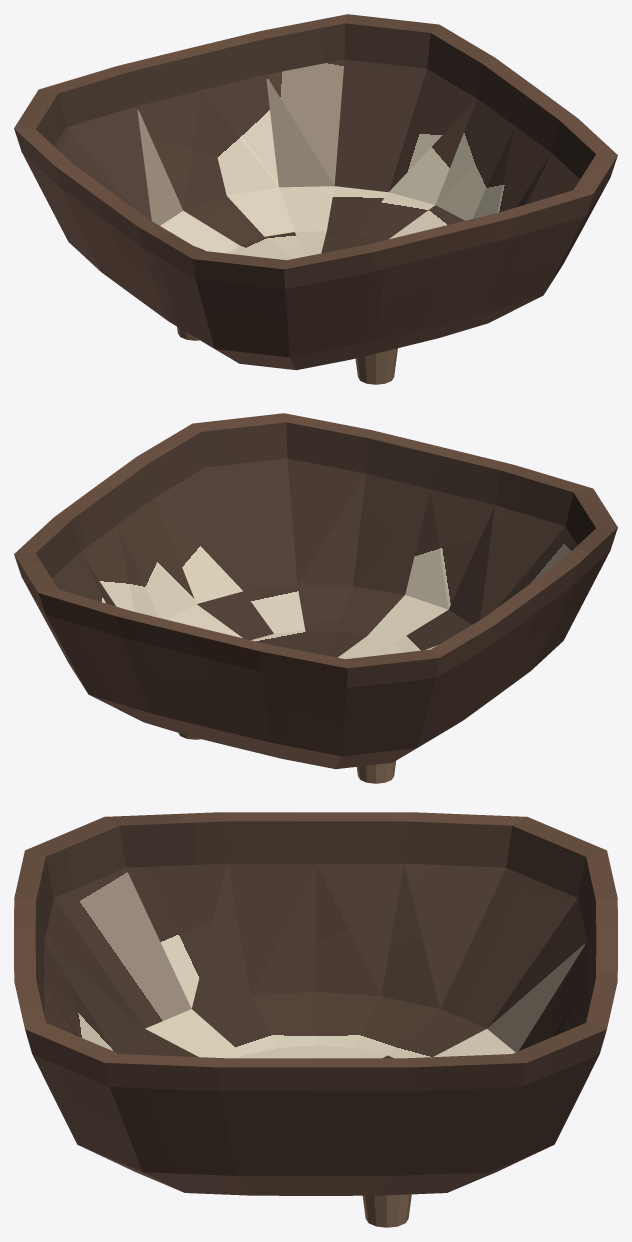
Rendered from antique-nezumi.glb.
3 views of the same model, one above another, from view 1: azimuth 30°, elevation 25°; view 2: azimuth 150°, elevation 25°; view 3: azimuth 270°, elevation 25° (orthographic). The views are drawn at different scales.
Visible parts, largest first — view 1: antique-nezumi/ceramic-inner-wall-6, antique-nezumi/ceramic-outer-mid-2, antique-nezumi/ceramic-inner-upper-5, antique-nezumi/ceramic-rim-4, antique-nezumi/ceramic-inner-lower-7, antique-nezumi/ceramic-outer-upper-3, antique-nezumi/ceramic-outer-lower-1, antique-nezumi/ceramic-inner-floor-8, antique-nezumi/foot-0; view 2: antique-nezumi/ceramic-inner-wall-6, antique-nezumi/ceramic-outer-mid-2, antique-nezumi/ceramic-inner-upper-5, antique-nezumi/ceramic-rim-4, antique-nezumi/ceramic-inner-lower-7, antique-nezumi/ceramic-outer-upper-3, antique-nezumi/ceramic-outer-lower-1, antique-nezumi/ceramic-inner-floor-8, antique-nezumi/foot-2; view 3: antique-nezumi/ceramic-inner-wall-6, antique-nezumi/ceramic-outer-mid-2, antique-nezumi/ceramic-inner-upper-5, antique-nezumi/ceramic-rim-4, antique-nezumi/ceramic-inner-lower-7, antique-nezumi/ceramic-outer-upper-3, antique-nezumi/ceramic-outer-lower-1, antique-nezumi/ceramic-inner-floor-8, antique-nezumi/foot-1.
Part boxes in pixels (x1,y1,x2,y2): antique-nezumi/ceramic-inner-wall-6: (54, 59, 579, 225); antique-nezumi/ceramic-outer-mid-2: (22, 152, 608, 357); antique-nezumi/ceramic-inner-upper-5: (36, 23, 595, 178); antique-nezumi/ceramic-rim-4: (14, 14, 617, 269); antique-nezumi/ceramic-inner-lower-7: (160, 186, 464, 253); antique-nezumi/ceramic-outer-upper-3: (14, 129, 617, 288); antique-nezumi/ceramic-outer-lower-1: (203, 296, 541, 370); antique-nezumi/ceramic-inner-floor-8: (227, 231, 380, 260); antique-nezumi/foot-0: (355, 348, 397, 384); antique-nezumi/ceramic-inner-wall-6: (52, 458, 577, 624); antique-nezumi/ceramic-outer-mid-2: (23, 551, 609, 756); antique-nezumi/ceramic-inner-upper-5: (36, 422, 595, 577); antique-nezumi/ceramic-rim-4: (14, 413, 617, 668); antique-nezumi/ceramic-inner-lower-7: (167, 585, 471, 652); antique-nezumi/ceramic-outer-upper-3: (14, 528, 617, 687); antique-nezumi/ceramic-outer-lower-1: (90, 695, 428, 769); antique-nezumi/ceramic-inner-floor-8: (251, 630, 404, 659); antique-nezumi/foot-2: (356, 761, 395, 783); antique-nezumi/ceramic-inner-wall-6: (44, 863, 587, 1052); antique-nezumi/ceramic-outer-mid-2: (32, 1054, 599, 1175); antique-nezumi/ceramic-inner-upper-5: (35, 821, 596, 1022); antique-nezumi/ceramic-rim-4: (14, 812, 617, 1067); antique-nezumi/ceramic-inner-lower-7: (116, 992, 515, 1058); antique-nezumi/ceramic-outer-upper-3: (25, 1029, 606, 1091); antique-nezumi/ceramic-outer-lower-1: (79, 1145, 552, 1195); antique-nezumi/ceramic-inner-floor-8: (238, 1045, 393, 1058); antique-nezumi/foot-1: (362, 1194, 411, 1227).
Bounding box in the file's own units: 0.5 × 0.2071 × 0.5.
4 materials, 4 textured.
